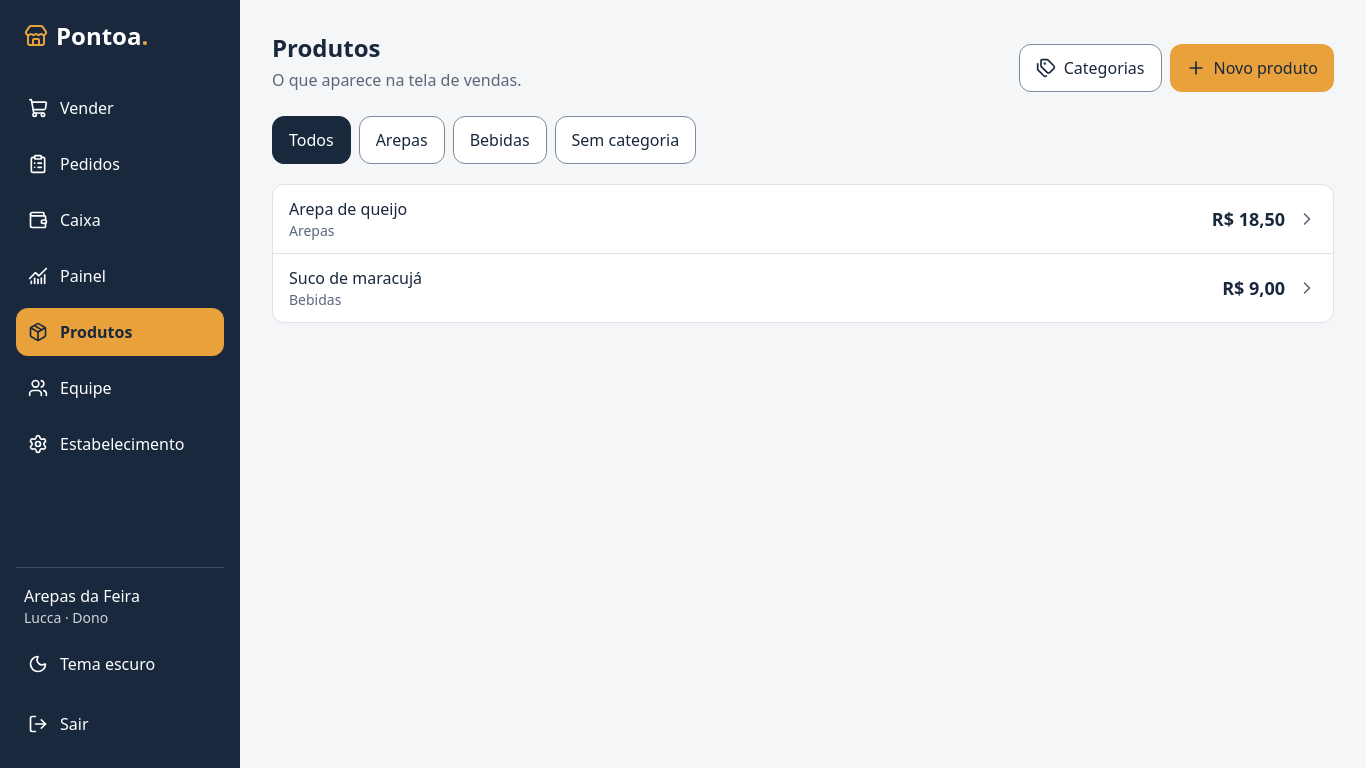
Test case: ProductsPage › lists products with formatted prices and filters by category
The image size is (1366, 768).
Expected: the text "Arepa de queijo" is shown, [289,197,407,221]
Click the button "Bebidas" at (500, 140), box [453,116,547,164]
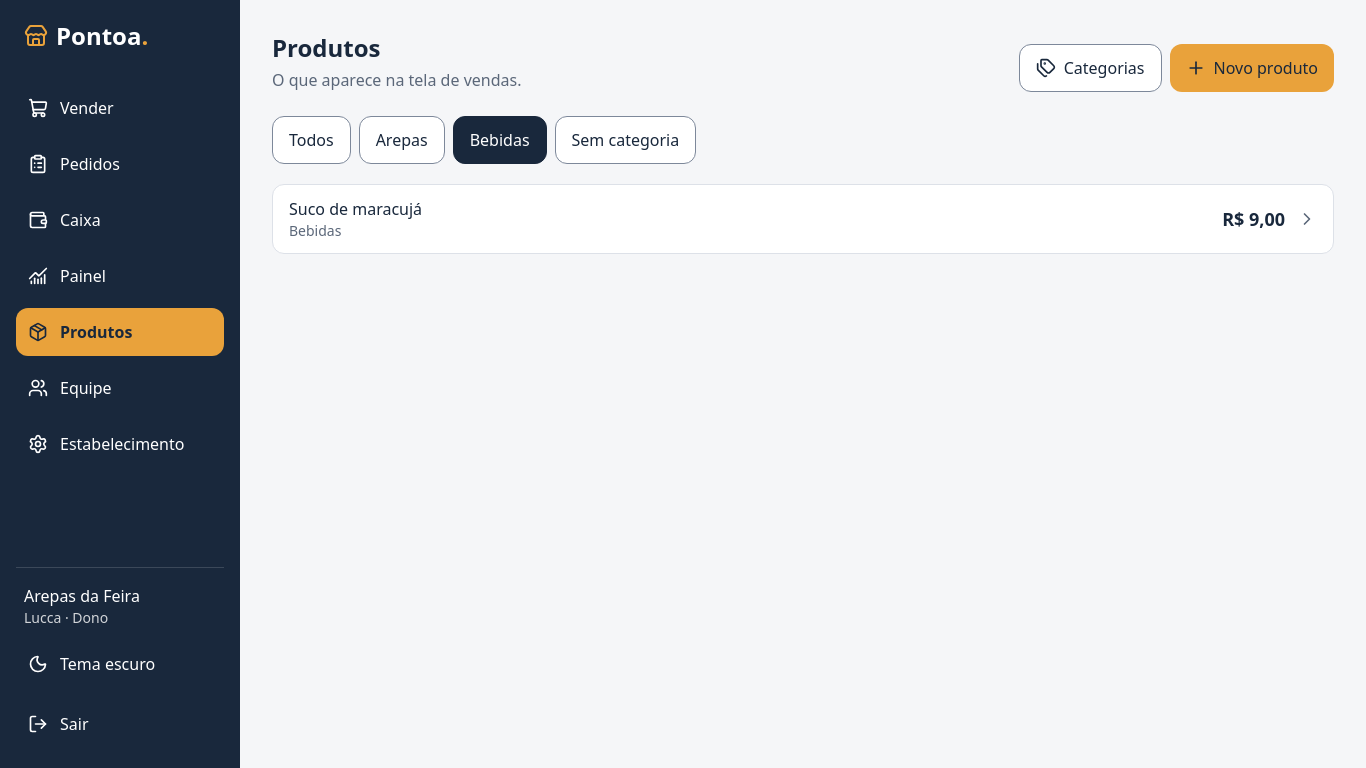
Expected: the text "Suco de maracujá" is shown, [289,197,422,221]
Result: the button "Arepa de queijo" is gone
